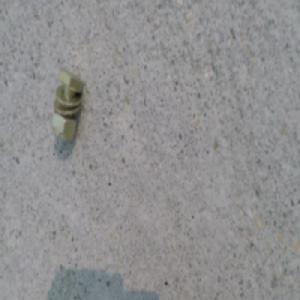BoltNutSet: (53, 75, 84, 146)
